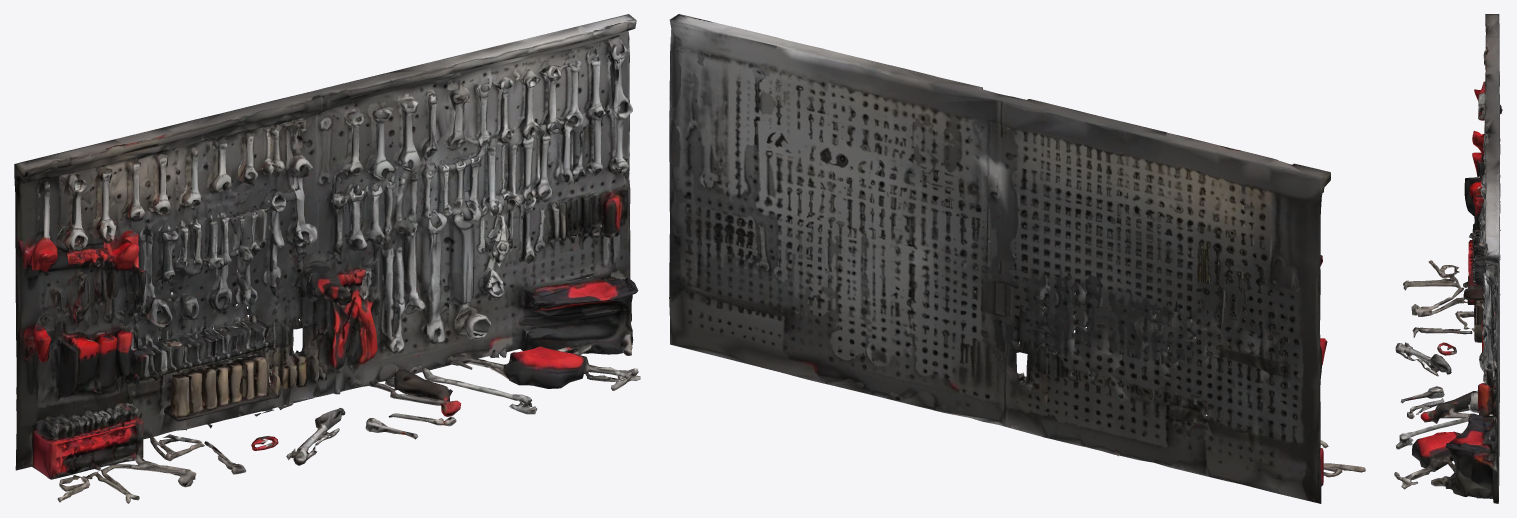
File: tool_haven.glb
3 renders of one model, left to right at view 1: azimuth 30°, elevation 25°; view 2: azimuth 150°, elevation 25°; view 3: azimuth 270°, elevation 25°, orthographic. The views are drawn at different scales.
Size of the model in its own units: 2 by 0.9826 by 0.3765.
Materials: 1 (1 with a texture image).
